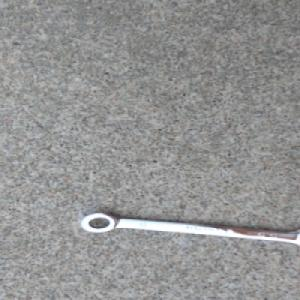Wrench: (79, 211, 300, 247)
